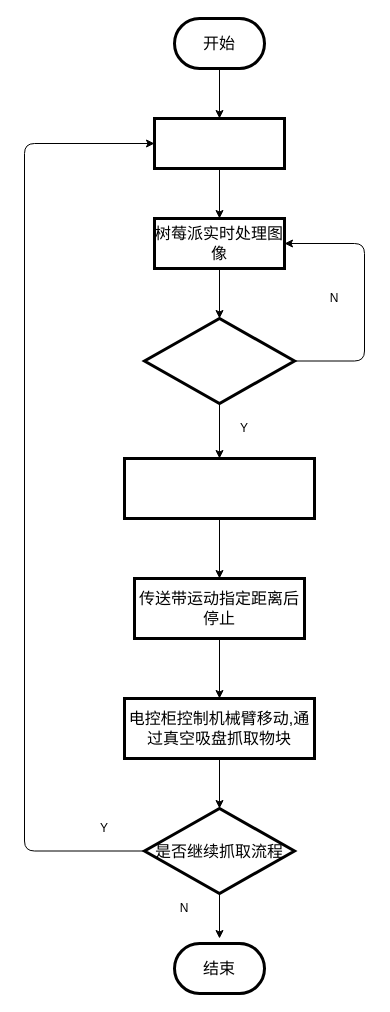
Image size: 390x1012. Some labels were removed from this diagram. Each missing label, with the centre of its shape:
传送带停止,树莓派处理图像得到目标坐标: point (219, 488)
传送带运输物体: point (219, 143)
图像中有无目标?: point (219, 360)
